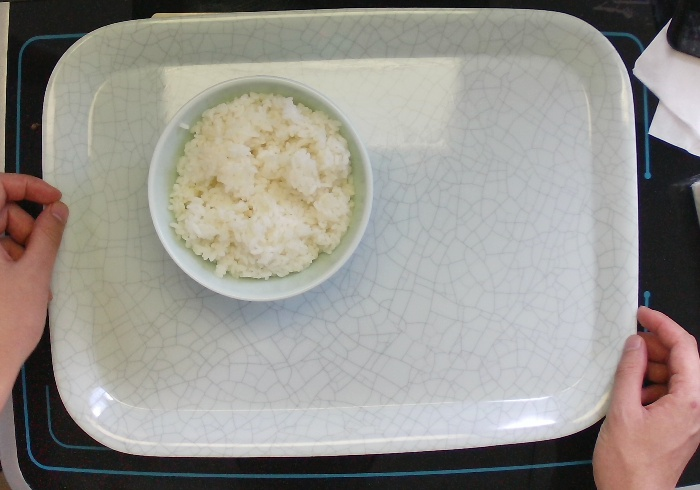JYsf-Fan_Wan: (143, 70, 379, 306)
